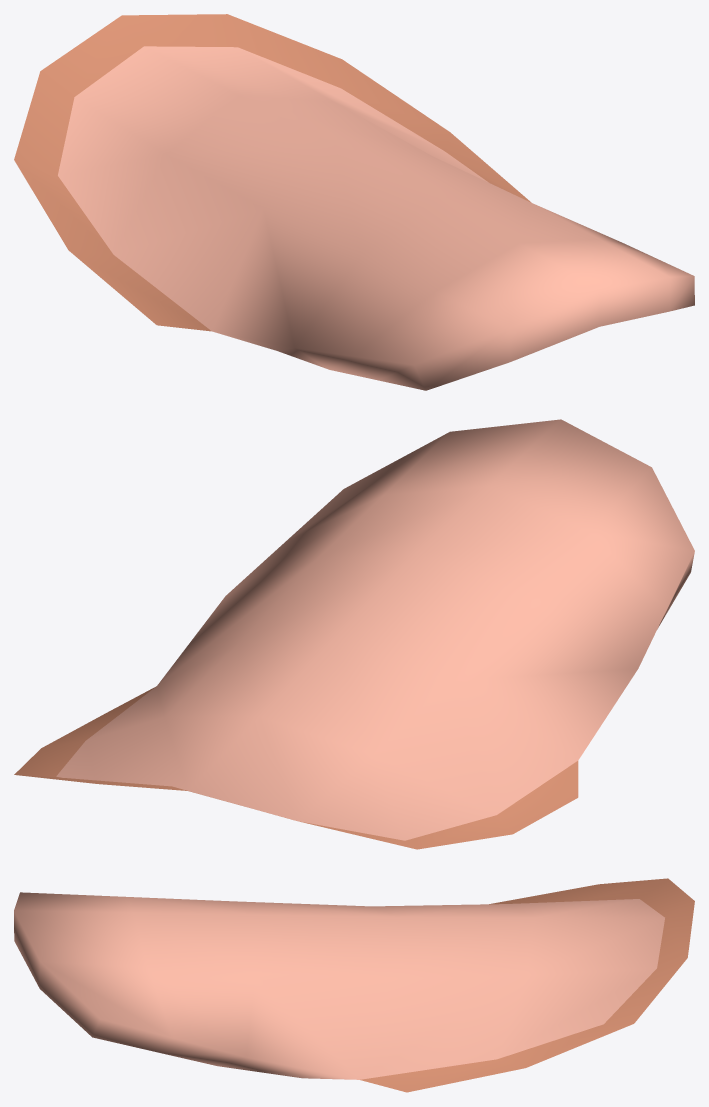
The model's file is isaret-oval.obj.
3 views of the same model, one above another, from view 1: azimuth 30°, elevation 25°; view 2: azimuth 150°, elevation 25°; view 3: azimuth 270°, elevation 25° (orthographic). The views are drawn at different scales.
Parts seen in each view (by area): view 1: 2._finger_oval_Female_Hand.001; view 2: 2._finger_oval_Female_Hand.001; view 3: 2._finger_oval_Female_Hand.001.
Part boxes in pixels (x1,y1,x2,y2): 2._finger_oval_Female_Hand.001: (14, 14, 694, 390); 2._finger_oval_Female_Hand.001: (14, 419, 694, 849); 2._finger_oval_Female_Hand.001: (14, 878, 694, 1092).
Bounding box in the file's own units: 0.0919 × 0.0286 × 0.1582.
